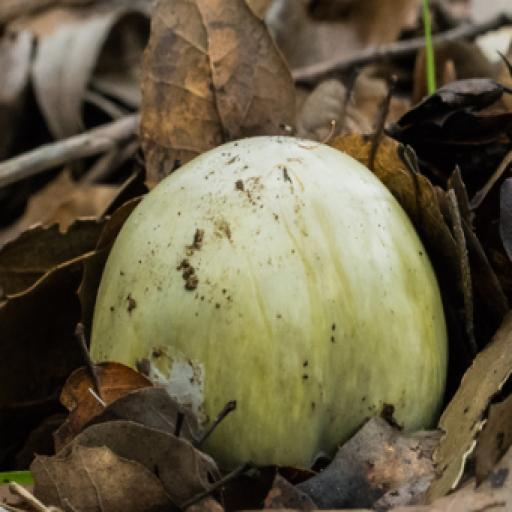mushroom: (67, 104, 498, 505)
